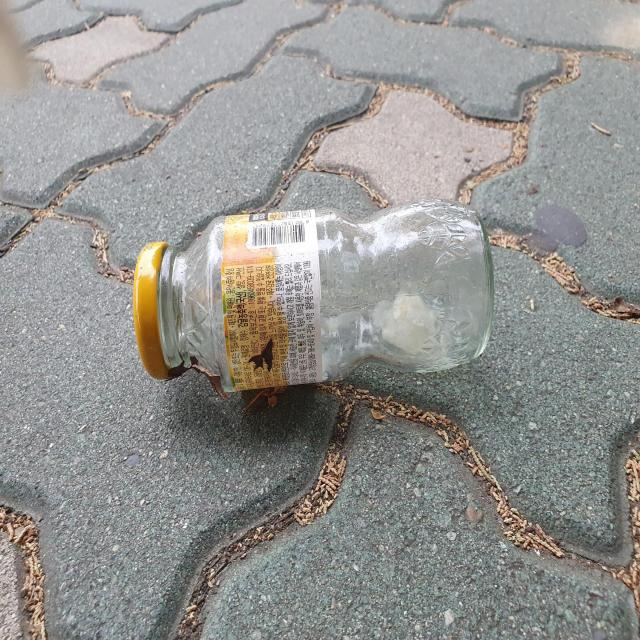glass: (133, 200, 494, 392)
